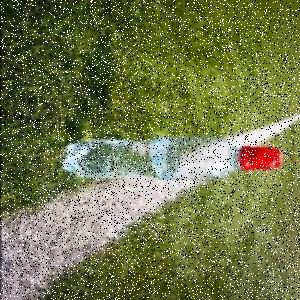Plastic-bottle: (62, 141, 286, 182)
